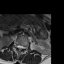CCS_normal: (19, 43, 21, 53)
LFS_normal: (23, 44, 25, 50)
LLS_normal: (21, 43, 23, 51)
RFS_normal: (15, 42, 17, 49)
RLS_normal: (17, 43, 19, 50)
